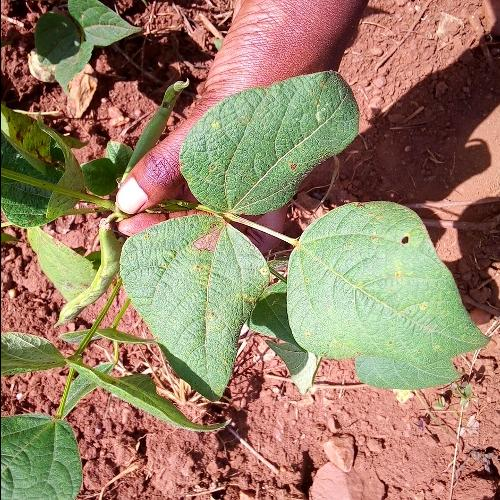embun tepung: (181, 39, 372, 202), (111, 220, 255, 371)
hawar: (295, 198, 441, 374)
